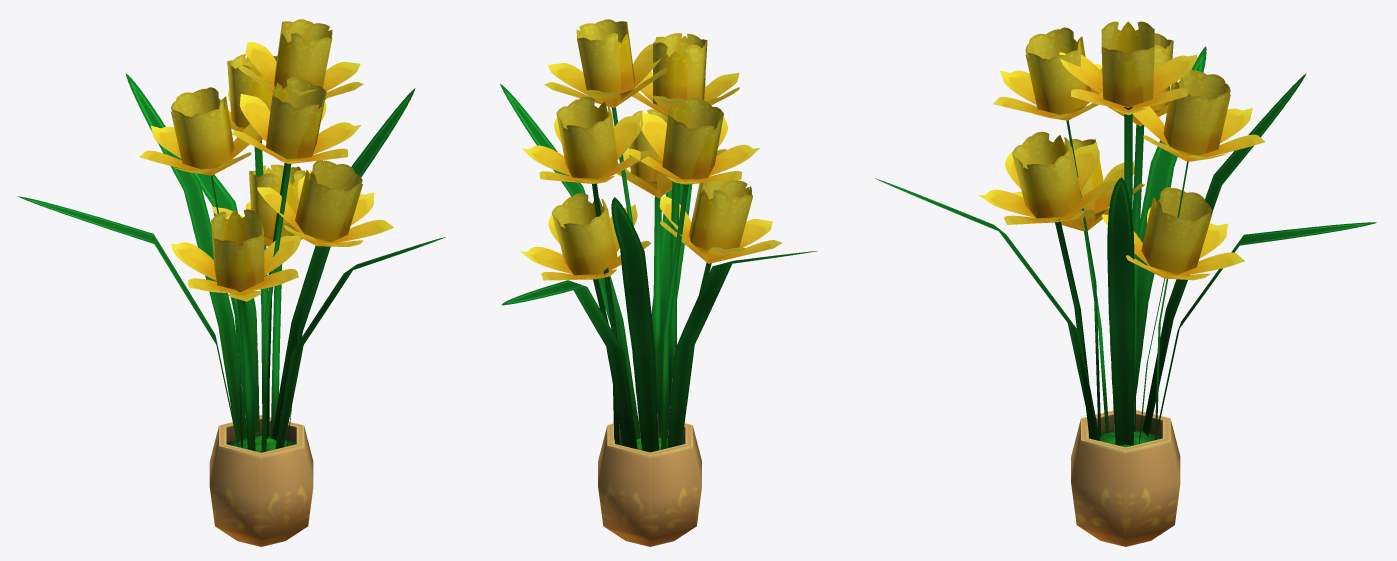
Rendered from Daffoddil_pot.FBX.
The picture shows the model from 3 angles, left to right: view 1: azimuth 30°, elevation 25°; view 2: azimuth 150°, elevation 25°; view 3: azimuth 270°, elevation 25°; orthographic projection. The views are drawn at different scales.
Visible parts, largest first — view 1: Daffoddil_pot; view 2: Daffoddil_pot; view 3: Daffoddil_pot.
Part boxes in pixels (x1,y1,x2,y2): Daffoddil_pot: (18, 19, 445, 546); Daffoddil_pot: (500, 19, 817, 546); Daffoddil_pot: (875, 21, 1376, 546).
Size of the model in its own units: 0.6291 by 0.8224 by 0.7285.
